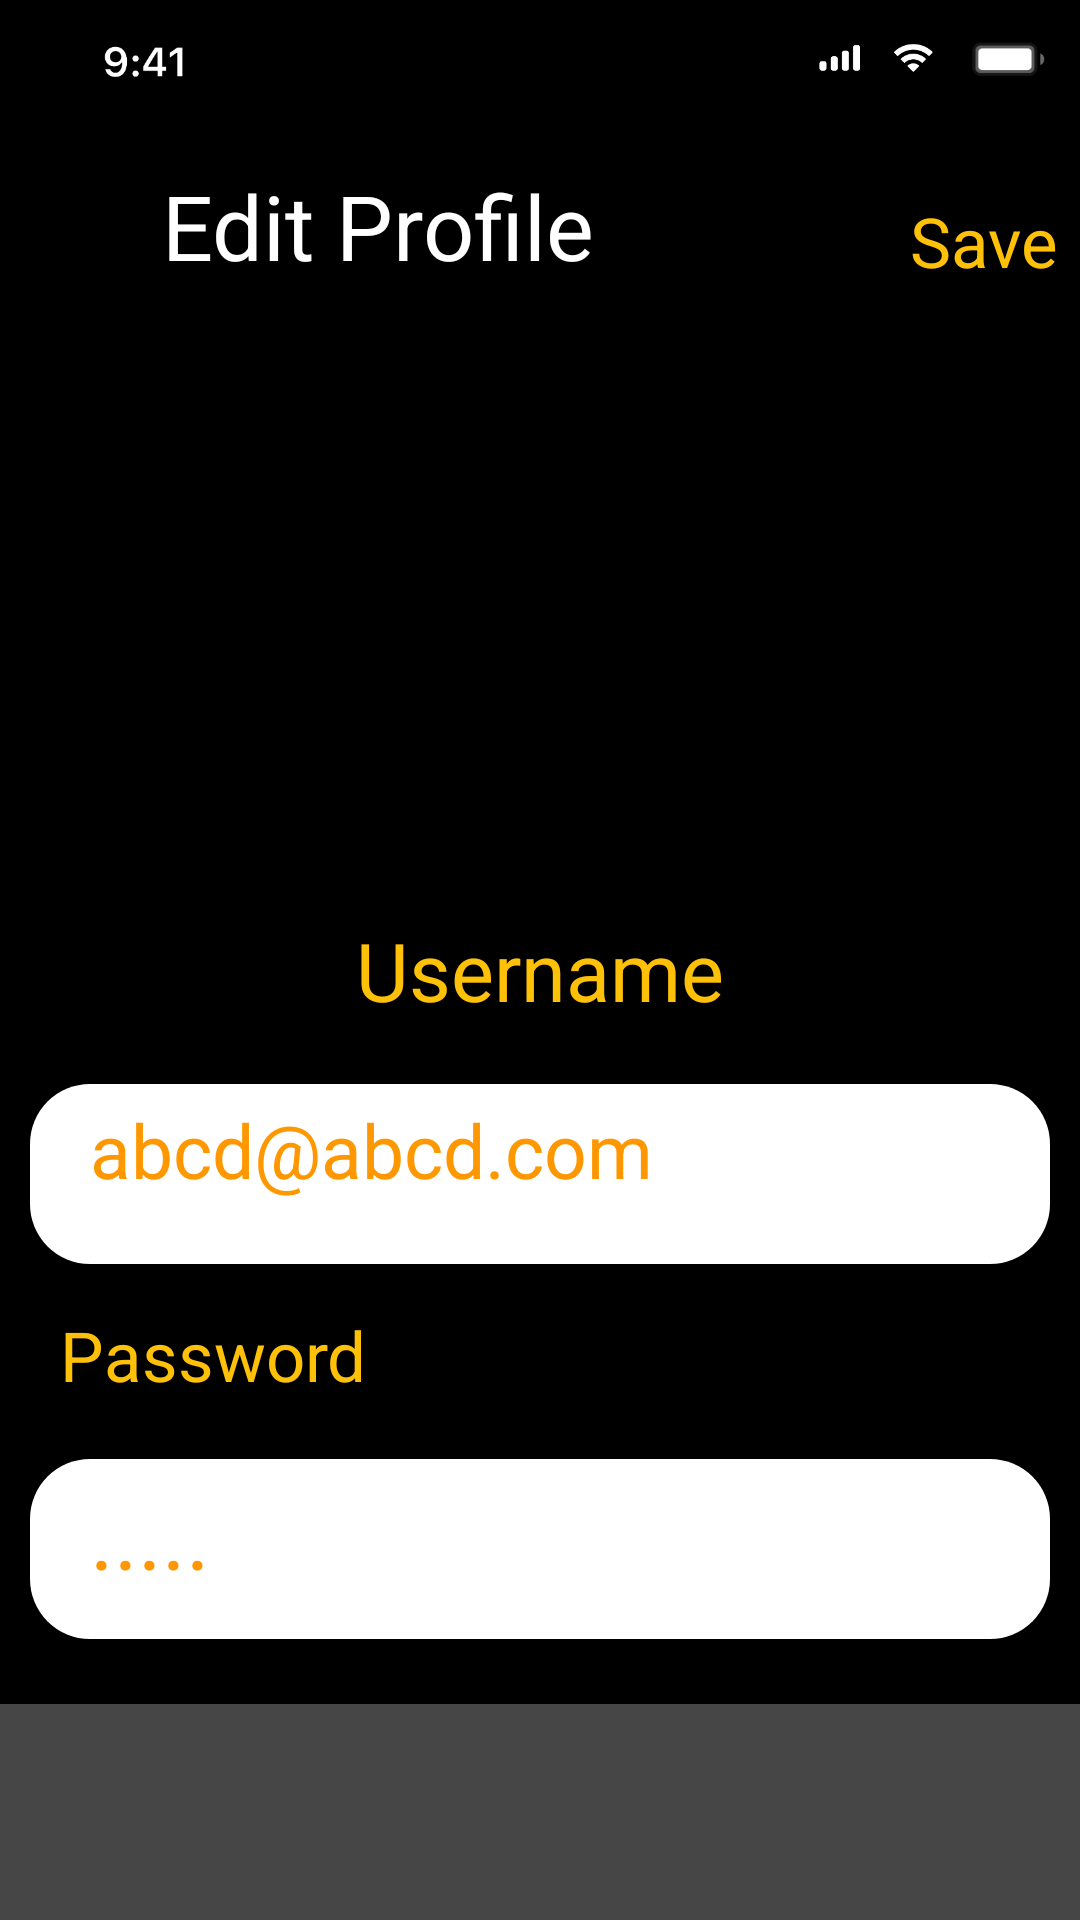

Named icons in this screenshot (1080×1920) and their bounding boxes, (x1, y1, x2, y2):
battery: (975, 45, 1044, 74)
